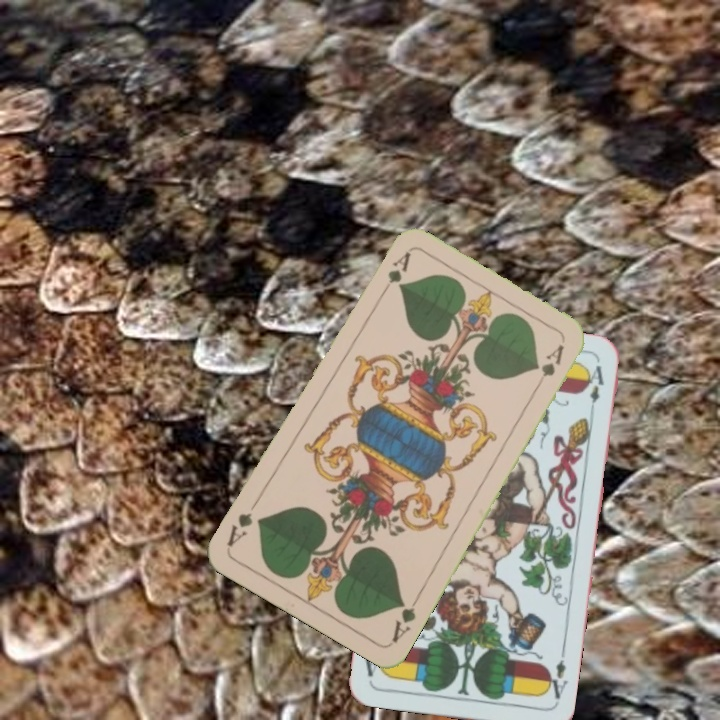EA: (541, 647, 570, 706)
GA: (375, 248, 414, 302), (387, 591, 423, 646)
